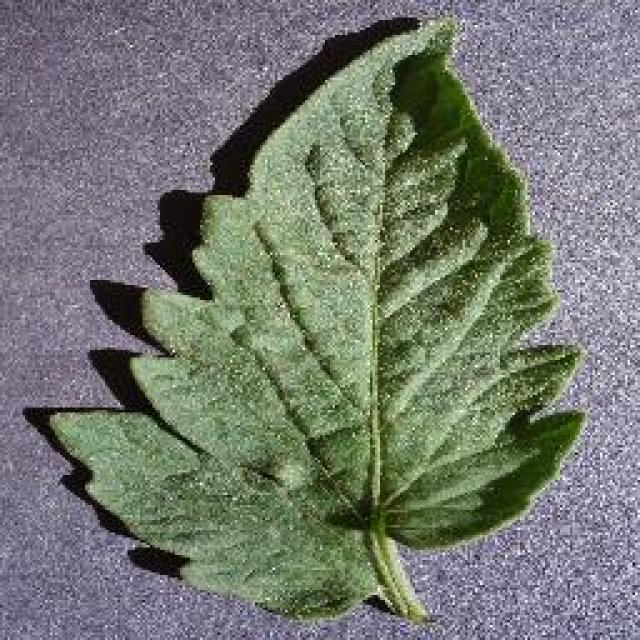Tomato healthy leaf: (41, 24, 586, 614)
